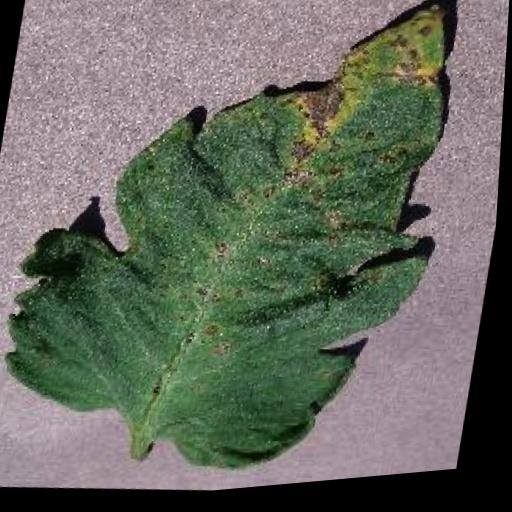Septoria: (0, 0, 479, 509)
